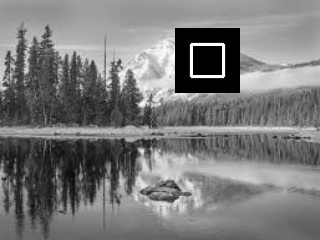square: (175, 28, 240, 93)
